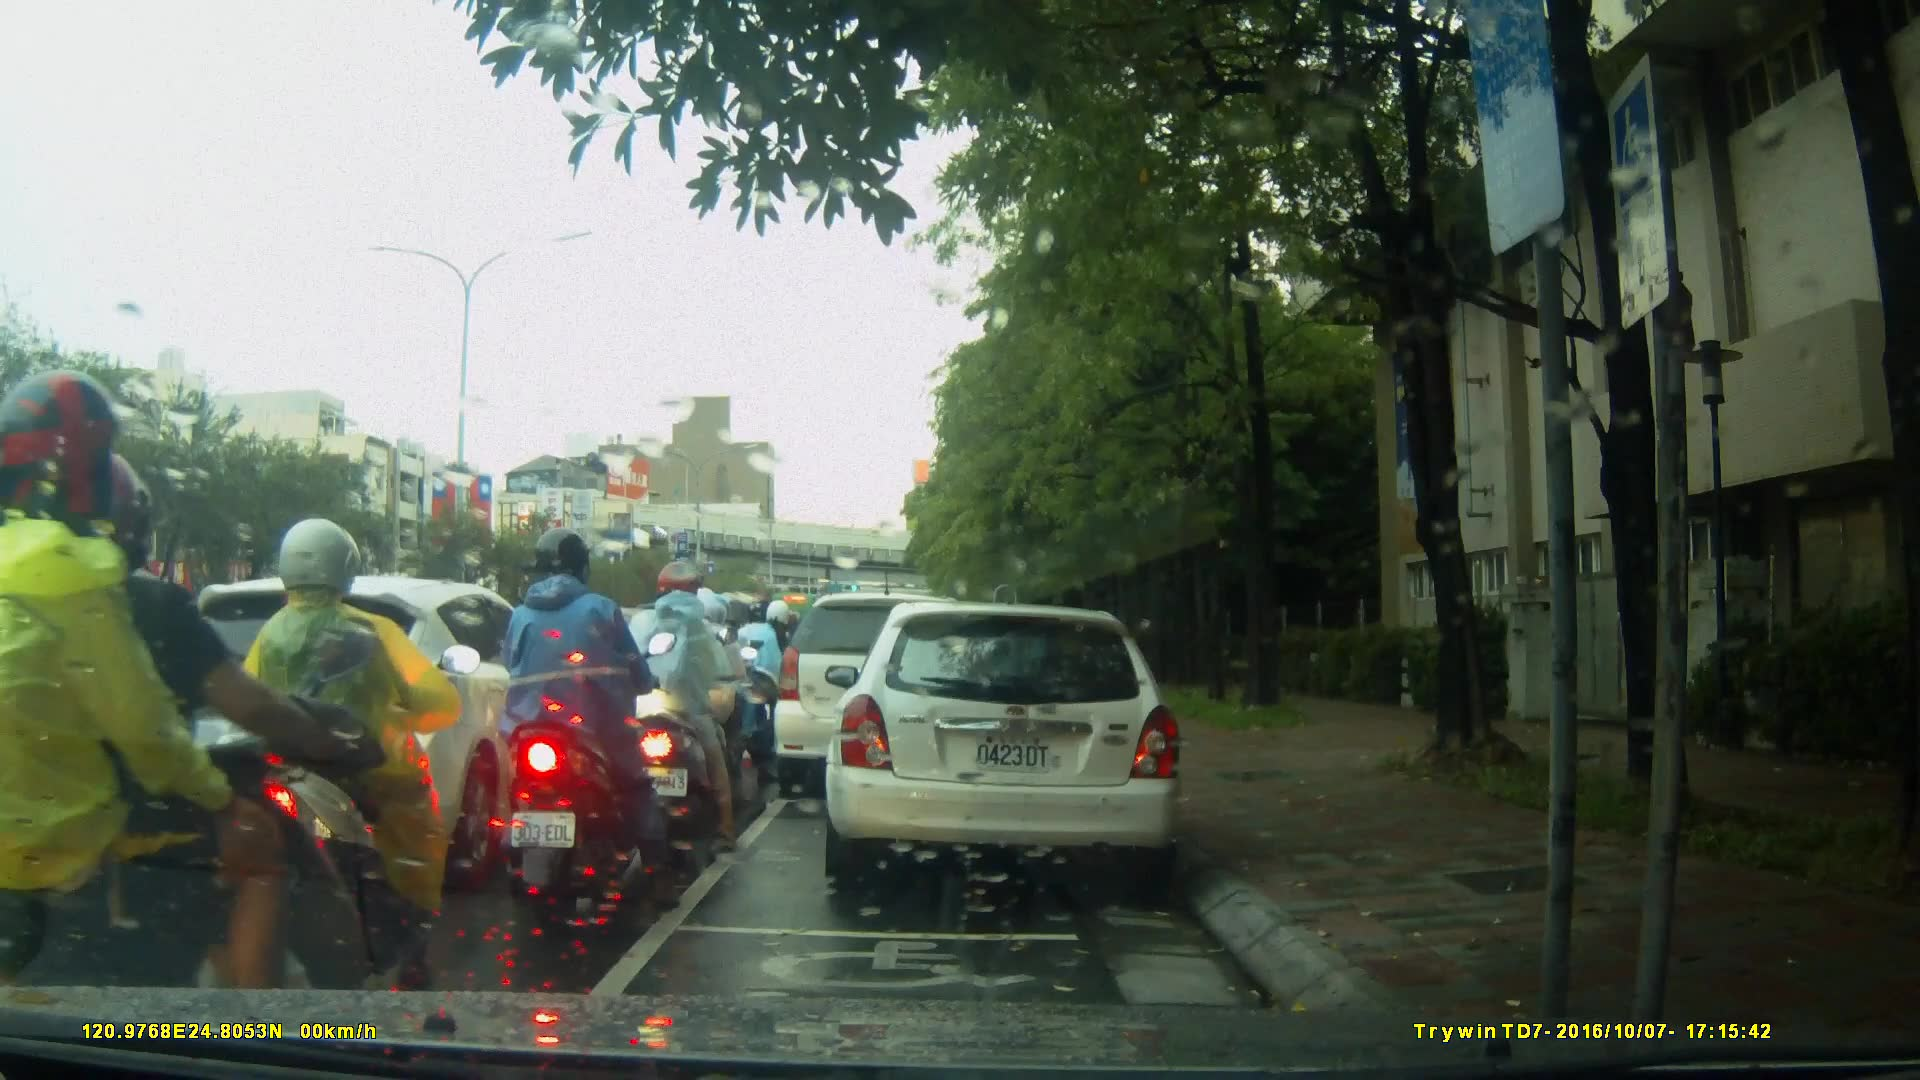rider: (1, 370, 370, 1064), (237, 521, 475, 1000), (498, 528, 682, 913), (610, 560, 736, 845), (652, 584, 762, 823), (733, 597, 794, 755)
vehicle: (152, 574, 599, 866), (822, 604, 1188, 883), (774, 595, 995, 802)
